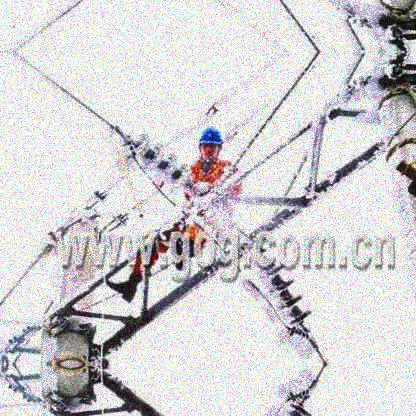helmet: (197, 126, 225, 162)
